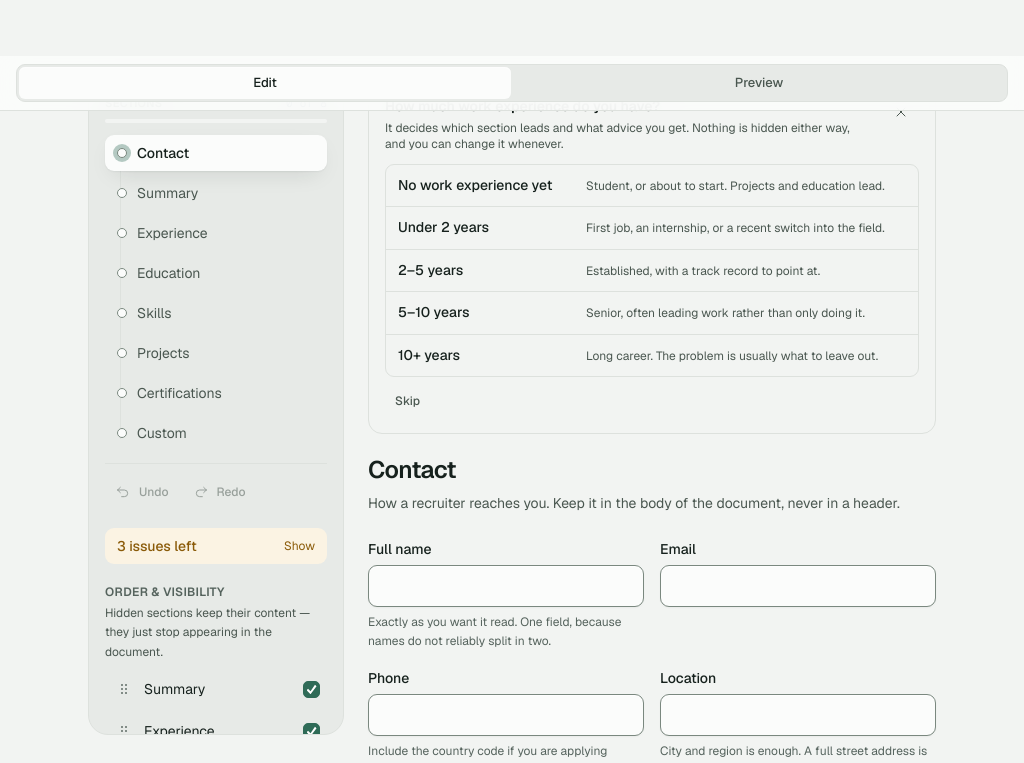
Test: editing › shows a useful message for a malformed email without discarding what was typed
The width and height of the screenshot is (1024, 763).
Expected: the heading "Contact" is shown, [368,454,456,485]
Type "not-an-email" into the field labelled "Email" at x=798, y=586, box [660,565,936,607]
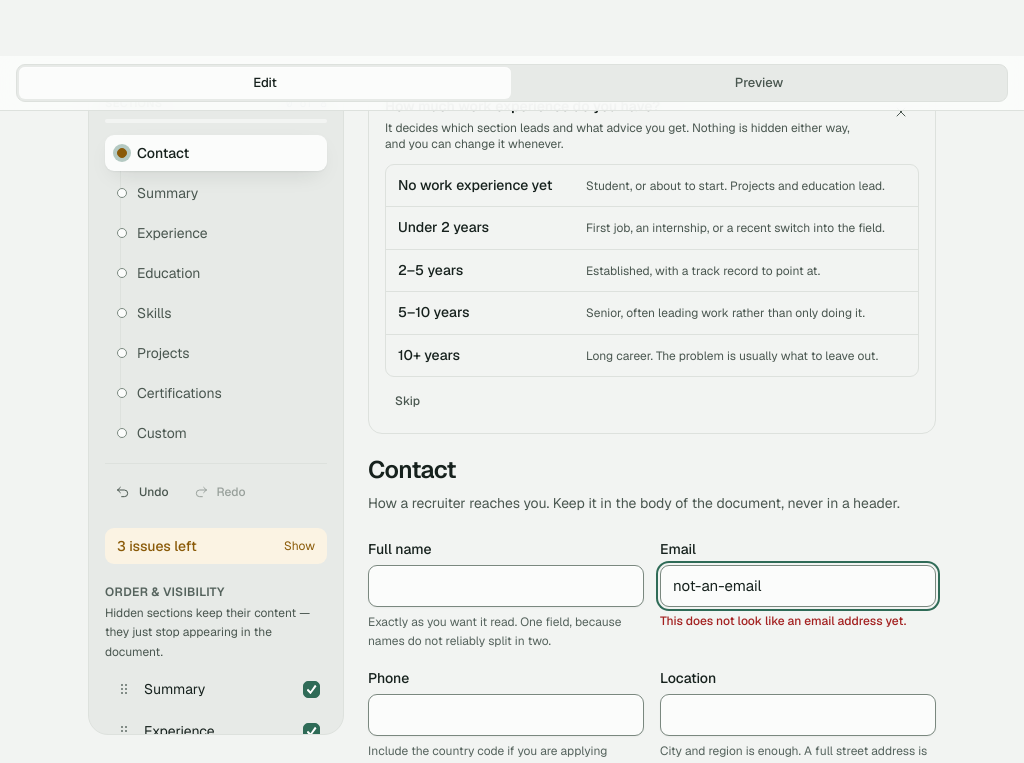
Expected: the message shows "does not look like an email", [660,613,906,629]
